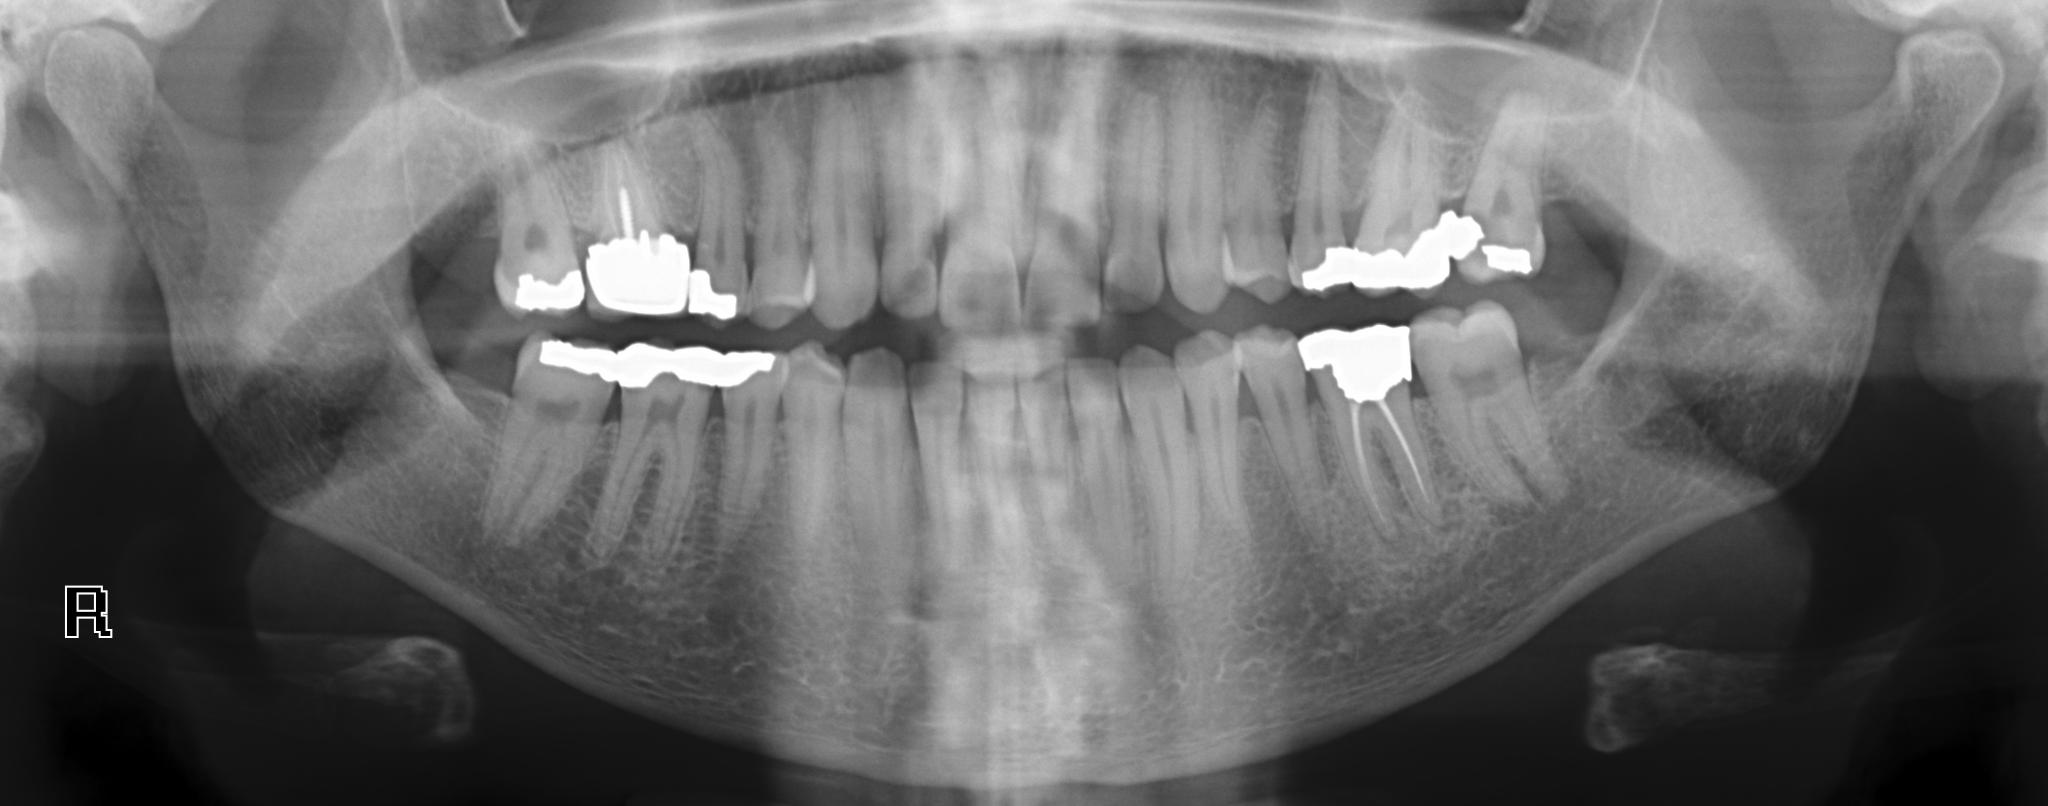Fillings: (600, 342, 722, 553), (1450, 97, 1549, 285), (488, 138, 586, 317), (1285, 98, 1354, 295), (688, 135, 750, 324)
Implant: (1302, 317, 1438, 545), (577, 128, 691, 320), (67, 585, 108, 639)
